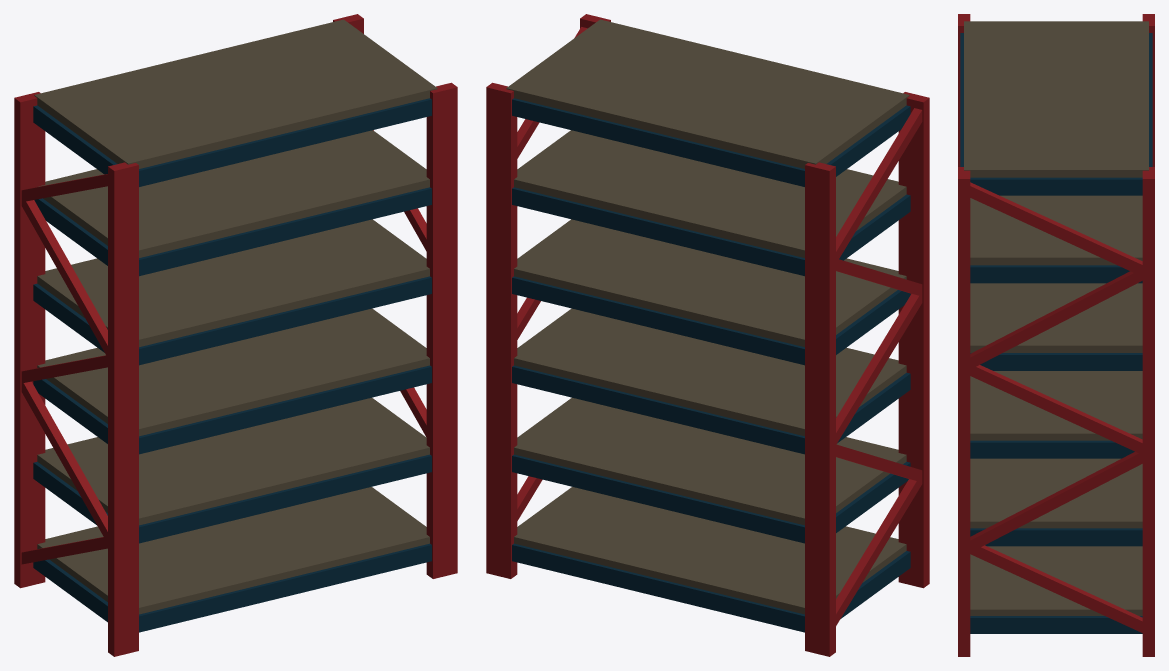
The model's file is Shelving_1.fbx.
The picture shows the model from 3 angles, left to right: view 1: azimuth 30°, elevation 25°; view 2: azimuth 150°, elevation 25°; view 3: azimuth 270°, elevation 25°; orthographic projection.
Visible parts, largest first — view 1: Shelving_1; view 2: Shelving_1; view 3: Shelving_1.
Part boxes in pixels (bbox=[...]): Shelving_1: bbox=[14, 14, 457, 656]; Shelving_1: bbox=[486, 14, 929, 656]; Shelving_1: bbox=[958, 14, 1154, 656].
Size of the model in its own units: 222 by 301 by 112.
